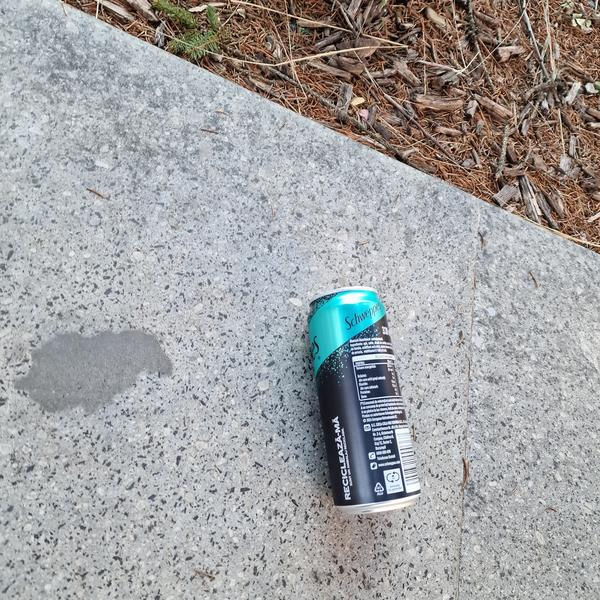can: (301, 280, 422, 520)
